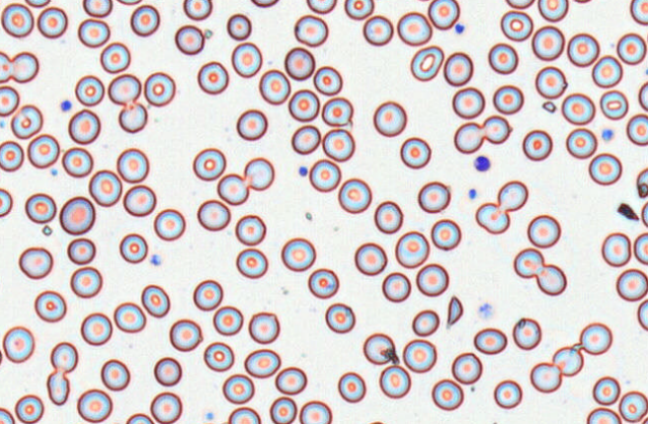PLT: (58, 98, 75, 114), (474, 158, 490, 173), (149, 252, 163, 266), (602, 128, 614, 143), (465, 189, 478, 201), (455, 23, 467, 36), (298, 165, 310, 176)
RBC: (59, 195, 95, 235), (394, 230, 429, 268), (372, 100, 407, 137), (76, 388, 112, 423), (396, 11, 432, 46), (337, 177, 372, 213), (88, 169, 122, 206), (2, 325, 35, 363), (531, 25, 565, 61), (410, 45, 444, 81), (280, 237, 316, 271), (402, 338, 436, 373), (0, 2, 34, 37), (526, 214, 561, 248), (362, 332, 398, 365), (116, 147, 149, 183), (192, 147, 226, 181), (10, 104, 43, 139), (293, 14, 328, 47), (18, 246, 53, 279), (27, 133, 60, 168), (566, 32, 599, 67), (68, 108, 100, 144), (378, 364, 411, 398), (415, 263, 449, 296), (308, 158, 341, 192), (534, 65, 567, 99), (588, 152, 622, 185), (561, 92, 595, 125), (258, 69, 290, 104), (143, 71, 175, 106), (231, 41, 262, 77), (243, 348, 280, 378), (579, 322, 612, 355), (169, 318, 202, 351), (417, 180, 450, 213), (123, 184, 156, 217), (354, 242, 387, 275), (322, 128, 355, 161), (451, 86, 484, 119), (475, 202, 509, 234), (107, 73, 141, 105), (196, 199, 230, 231), (591, 54, 623, 88), (197, 60, 229, 94), (216, 173, 249, 205), (615, 268, 647, 301), (113, 301, 146, 333), (80, 312, 112, 345), (153, 208, 185, 241), (248, 311, 280, 344), (399, 136, 431, 169), (243, 156, 274, 190), (284, 46, 315, 80), (601, 232, 631, 267), (443, 51, 473, 86), (431, 378, 463, 410), (150, 391, 182, 423), (70, 266, 102, 298), (307, 267, 339, 299), (34, 290, 66, 322), (565, 127, 597, 159), (529, 362, 562, 393), (500, 10, 533, 41), (235, 247, 268, 278), (288, 88, 319, 121), (373, 200, 403, 234), (535, 263, 566, 295), (497, 180, 528, 212), (451, 352, 482, 384), (453, 121, 484, 153), (61, 146, 93, 177), (222, 373, 254, 404), (36, 6, 67, 38), (99, 41, 130, 73), (430, 218, 461, 250), (362, 14, 393, 46), (487, 42, 518, 74), (192, 279, 223, 311), (24, 192, 56, 223), (236, 108, 267, 140), (100, 358, 130, 391), (616, 32, 646, 65), (513, 247, 544, 278), (552, 345, 583, 376), (203, 341, 234, 372), (324, 302, 355, 333), (235, 214, 266, 245), (427, 0, 459, 30), (74, 74, 104, 106), (522, 129, 552, 161), (130, 4, 160, 36), (321, 96, 353, 126), (492, 84, 524, 114), (512, 317, 541, 350), (274, 366, 307, 395), (77, 18, 110, 47), (141, 284, 170, 317), (381, 271, 411, 302), (212, 305, 243, 335), (174, 24, 204, 55), (618, 390, 647, 422), (118, 101, 147, 133), (337, 371, 366, 403), (473, 327, 507, 354), (291, 124, 321, 154), (599, 89, 628, 120), (11, 51, 39, 83), (482, 114, 511, 144), (14, 394, 44, 423), (493, 379, 522, 409), (153, 356, 182, 386), (313, 65, 342, 95), (50, 341, 78, 372), (119, 232, 147, 263), (46, 369, 70, 405), (592, 375, 620, 405), (66, 237, 96, 264), (0, 140, 24, 172), (299, 400, 332, 423), (411, 309, 439, 336), (269, 396, 297, 423), (626, 113, 647, 146), (537, 0, 568, 22), (226, 13, 251, 40), (344, 0, 374, 20), (182, 0, 212, 20), (0, 85, 19, 116), (227, 406, 261, 423), (586, 407, 621, 423), (82, 0, 112, 17), (633, 232, 647, 265), (629, 0, 647, 25), (306, 0, 336, 14), (0, 187, 13, 217), (0, 50, 12, 82), (636, 167, 648, 198), (637, 298, 647, 331), (125, 412, 154, 423), (638, 80, 647, 111), (505, 0, 535, 9), (0, 407, 14, 423), (250, 0, 279, 7), (641, 199, 648, 227), (24, 0, 51, 7), (115, 0, 142, 5), (363, 420, 386, 424), (0, 268, 3, 297), (572, 0, 593, 4)
Schistocyte: (449, 296, 463, 327), (542, 101, 557, 114)
